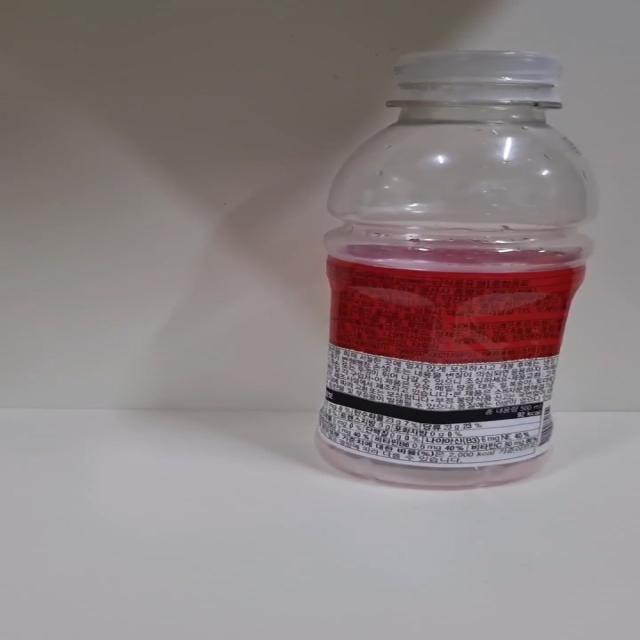Plastic: (313, 50, 601, 492)
